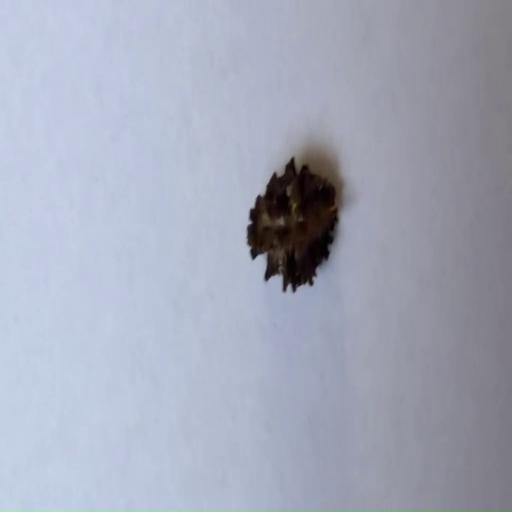papaya_seed: (241, 139, 356, 327)
